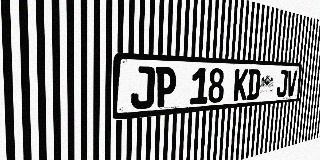1: (190, 68, 209, 105)
8: (208, 68, 225, 103)
D: (247, 69, 261, 100)
J: (130, 66, 155, 110), (276, 70, 288, 98)
K: (233, 69, 248, 101)
P: (155, 67, 177, 108)
V: (286, 70, 297, 97)
